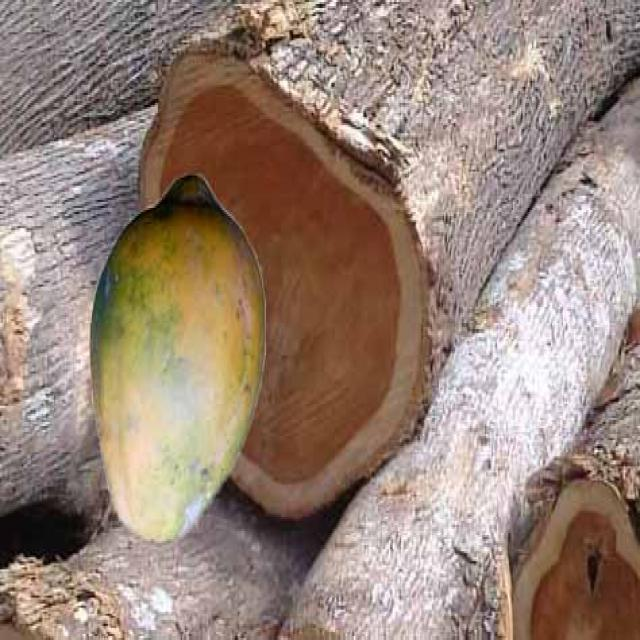Pepaya rippen: (89, 168, 262, 555)
